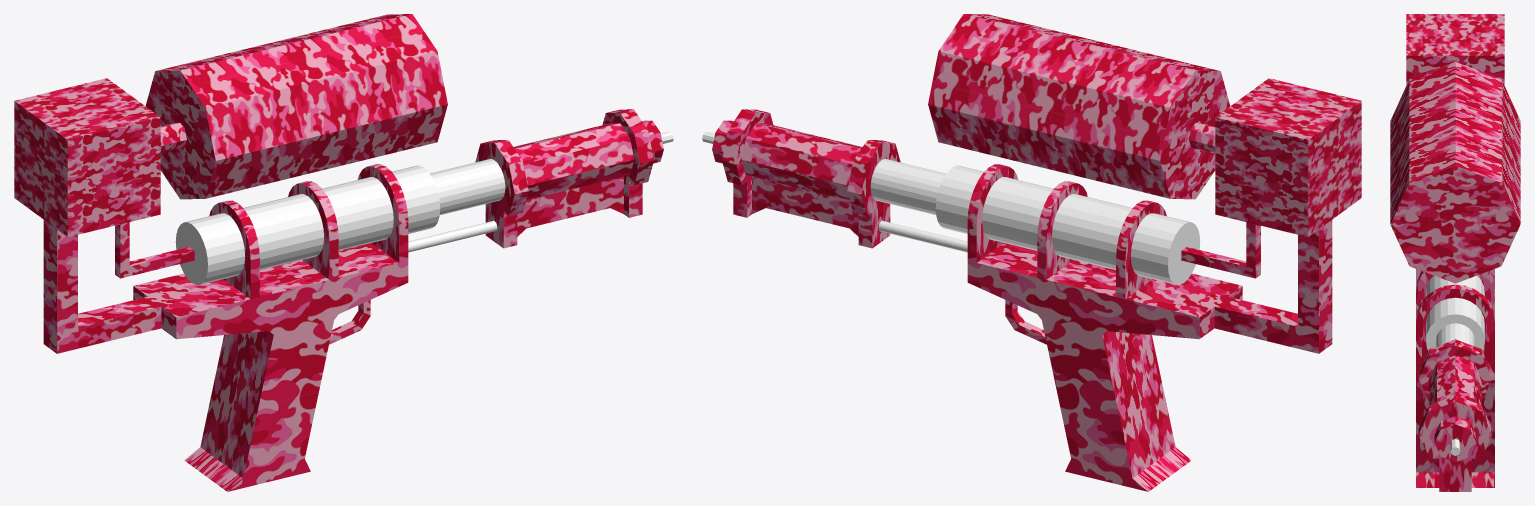
The model's file is Watergun_pinkcamo.FBX.
The picture shows the model from 3 angles, left to right: view 1: azimuth 30°, elevation 25°; view 2: azimuth 150°, elevation 25°; view 3: azimuth 270°, elevation 25°; orthographic projection. The views are drawn at different scales.
Parts seen in each view (by area): view 1: Depósito, Estructura, Empuñadura, Cubo depósito, Cilindro; view 2: Depósito, Estructura, Empuñadura, Cubo depósito, Cilindro; view 3: Depósito, Estructura, Cubo depósito, Cilindro, Empuñadura.
Boxes of the visible parts, left/top/right/bottom form: Depósito: left=145, top=14, right=447, bottom=199; Estructura: left=43, top=109, right=663, bottom=353; Empuñadura: left=176, top=222, right=408, bottom=491; Cubo depósito: left=14, top=78, right=160, bottom=236; Cilindro: left=175, top=132, right=673, bottom=284; Depósito: left=928, top=14, right=1230, bottom=199; Estructura: left=712, top=109, right=1332, bottom=353; Empuñadura: left=967, top=222, right=1199, bottom=491; Cubo depósito: left=1215, top=78, right=1361, bottom=236; Cilindro: left=702, top=132, right=1200, bottom=284; Depósito: left=1390, top=62, right=1520, bottom=283; Estructura: left=1416, top=269, right=1494, bottom=491; Cubo depósito: left=1406, top=14, right=1504, bottom=85; Cilindro: left=1426, top=275, right=1484, bottom=455; Empuñadura: left=1416, top=380, right=1494, bottom=487.
Size of the model in its own units: 13.57 by 8.47 by 2.65.
Materials: 2 (1 with a texture image).
